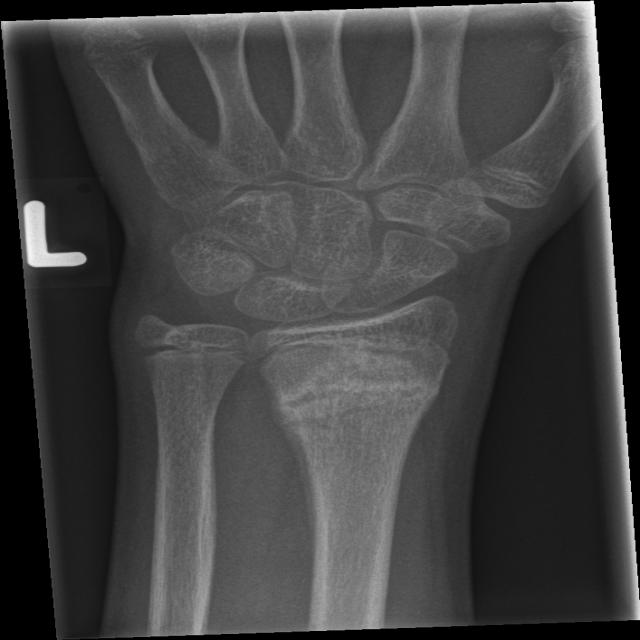radius fracture: (249, 359, 464, 502)
